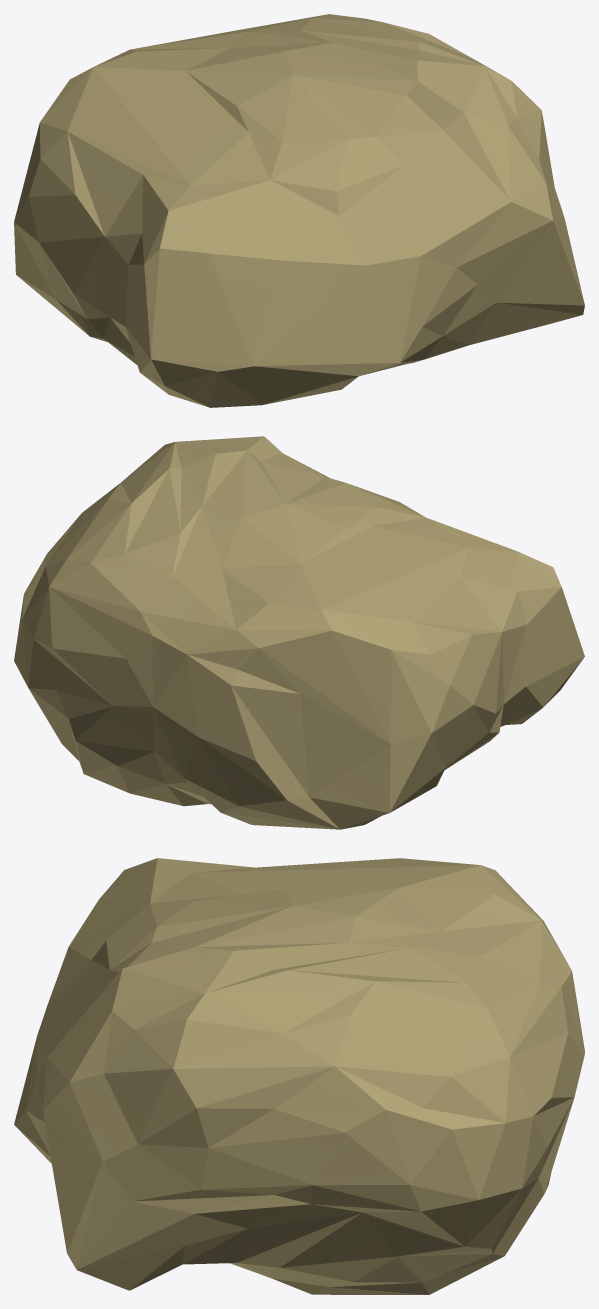
File: SM_rock_49.fbx
The picture shows the model from 3 angles, top to bottom: view 1: azimuth 30°, elevation 25°; view 2: azimuth 150°, elevation 25°; view 3: azimuth 270°, elevation 25°; orthographic projection. The views are drawn at different scales.
Visible parts, largest first — view 1: rock_49; view 2: rock_49; view 3: rock_49.
Boxes of the visible parts, box(x1,y1,x2,y2) form: rock_49: box(14, 14, 584, 407); rock_49: box(14, 436, 584, 829); rock_49: box(14, 858, 584, 1294).
Size of the model in its own units: 256 by 162 by 245.
